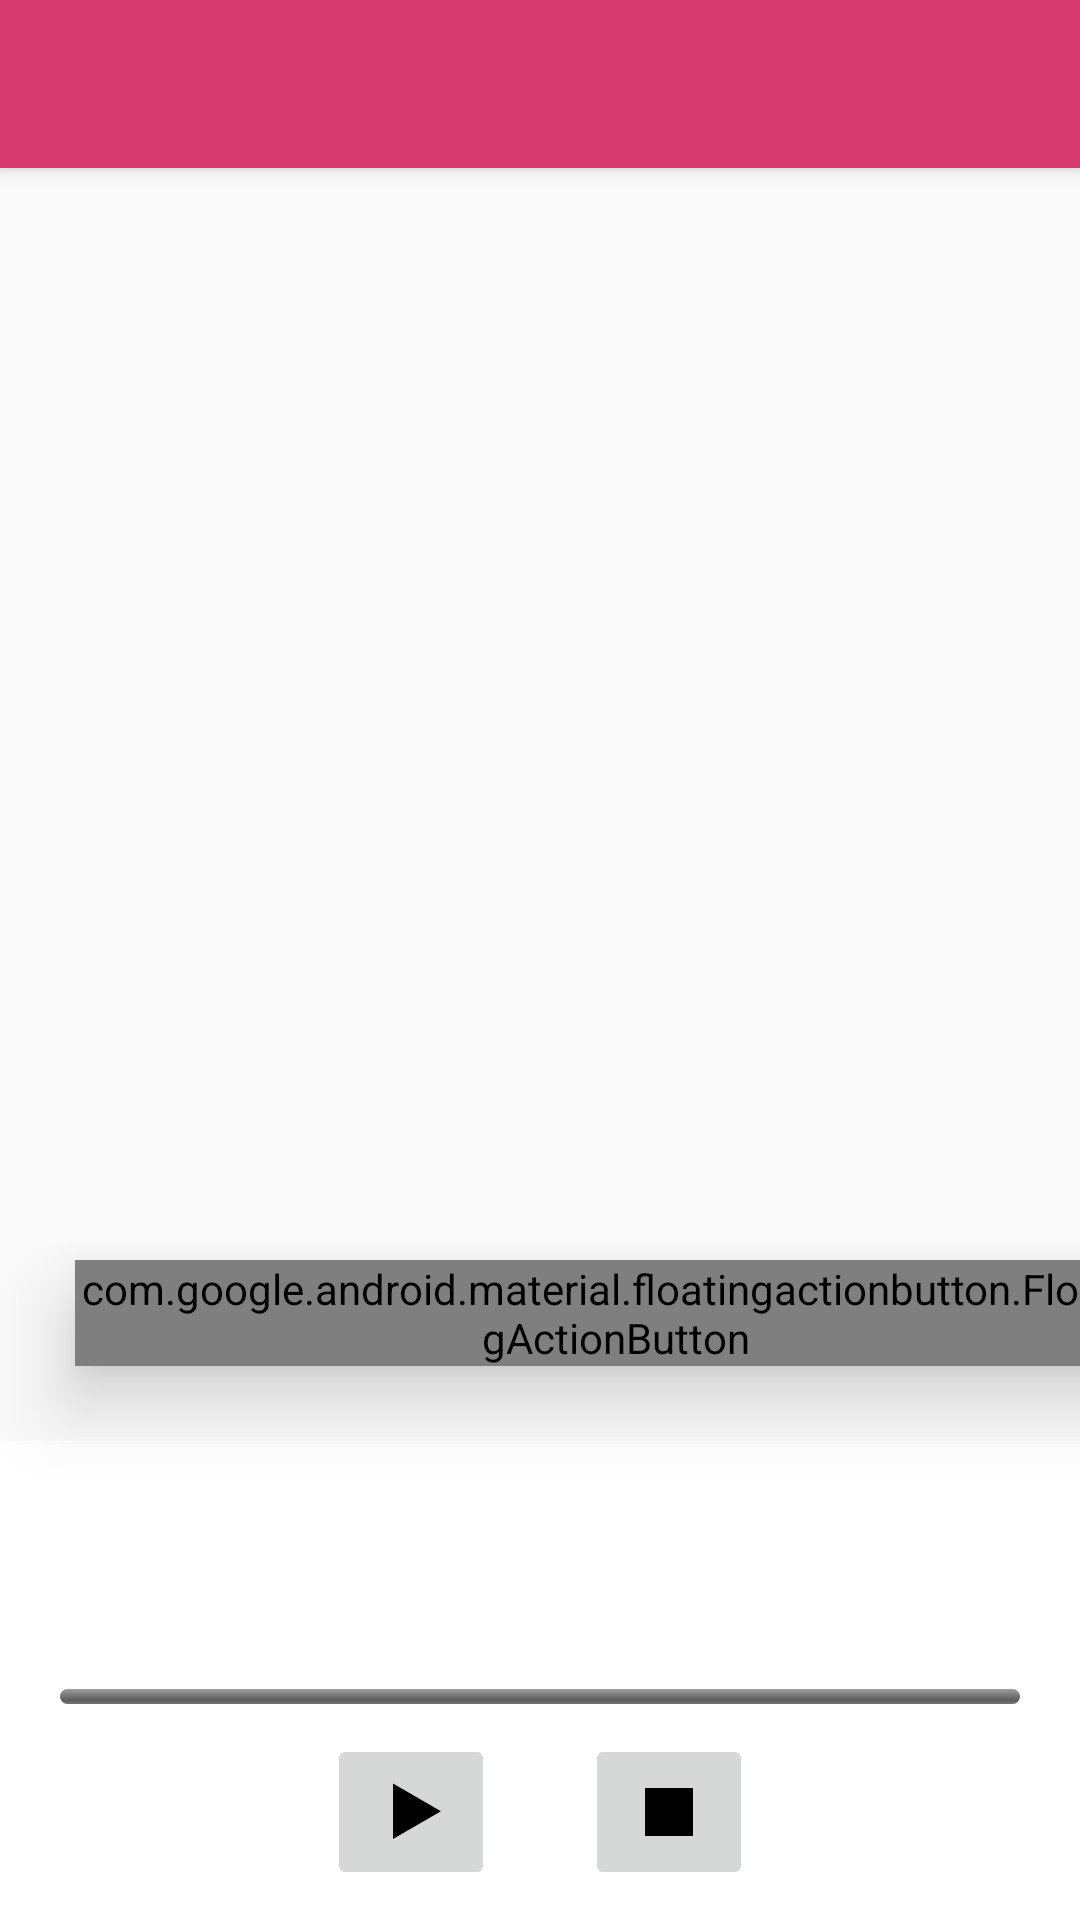

Where to tap for icons on this 1080×1920 app screen, as (x,y):
play: (411,1812)
stop: (669,1812)
